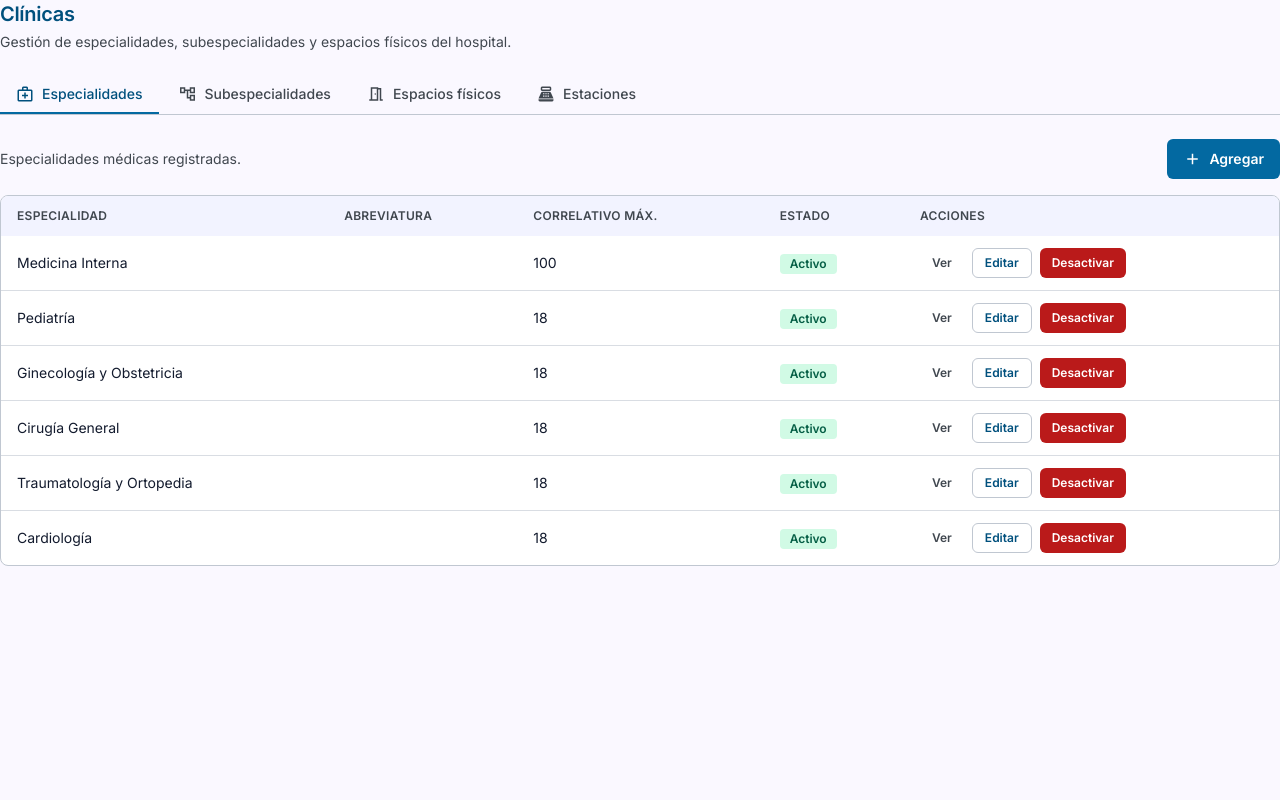
Scenario: ClinicasPage › crea una especialidad y la muestra en el listado
Click the button "Agregar" at (1224, 159), box [1167,139,1279,179]
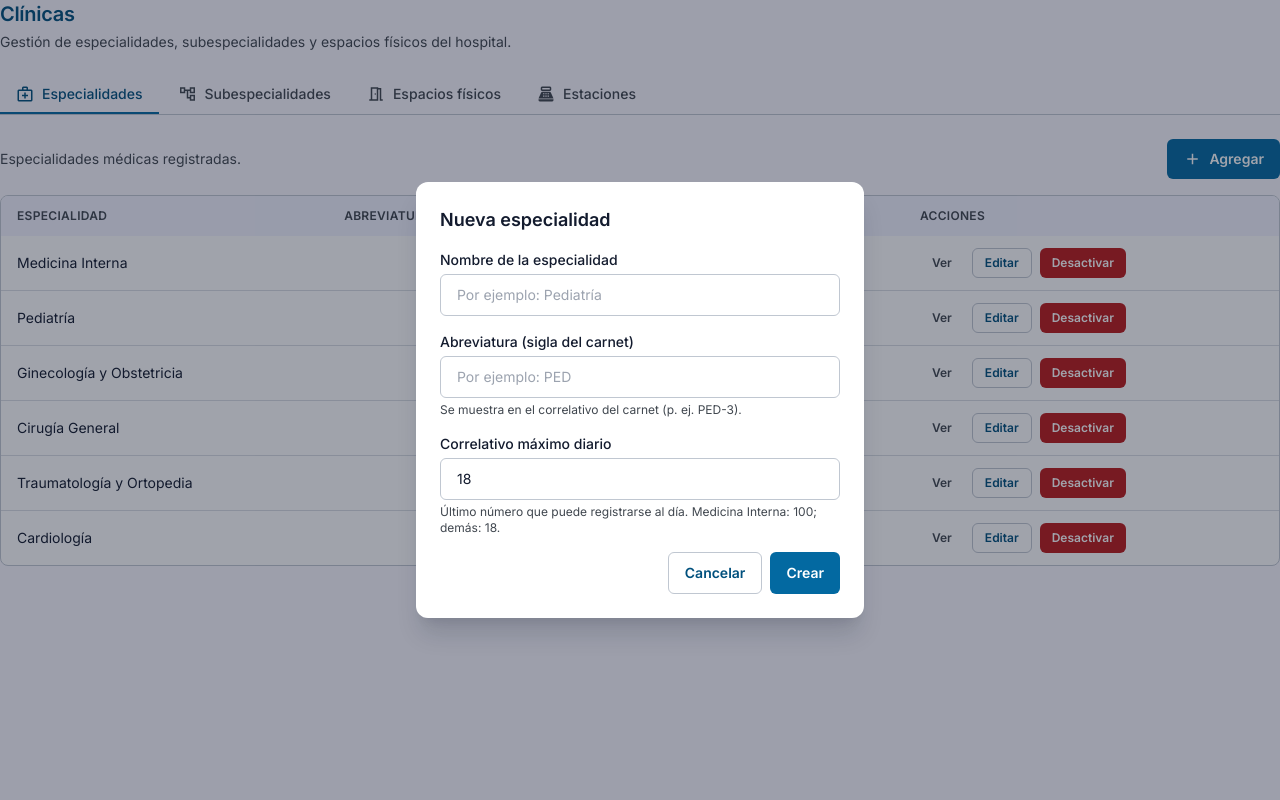
Type "Neurología" into the field labelled "Nombre de la especialidad" at (640, 295), box [440,274,840,316]
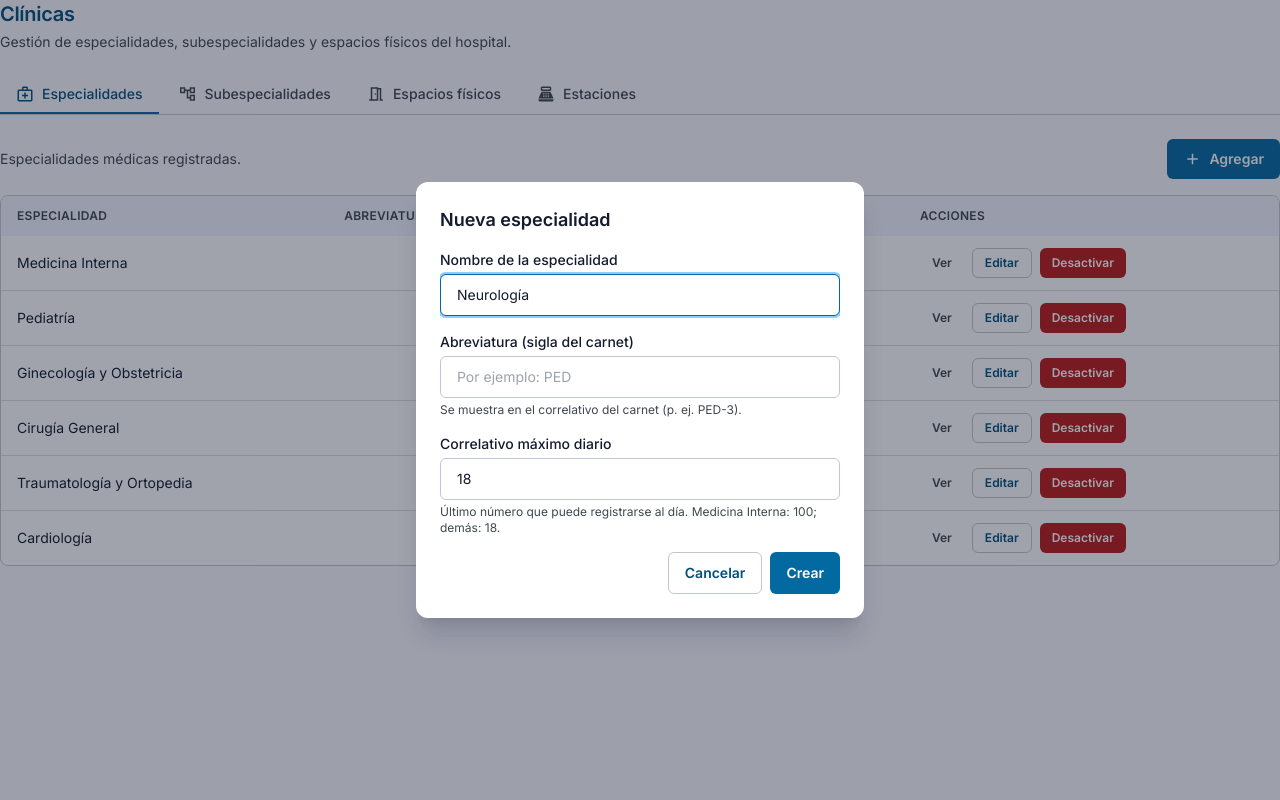
Click the button "Crear" at (805, 573), box [770,552,840,594]
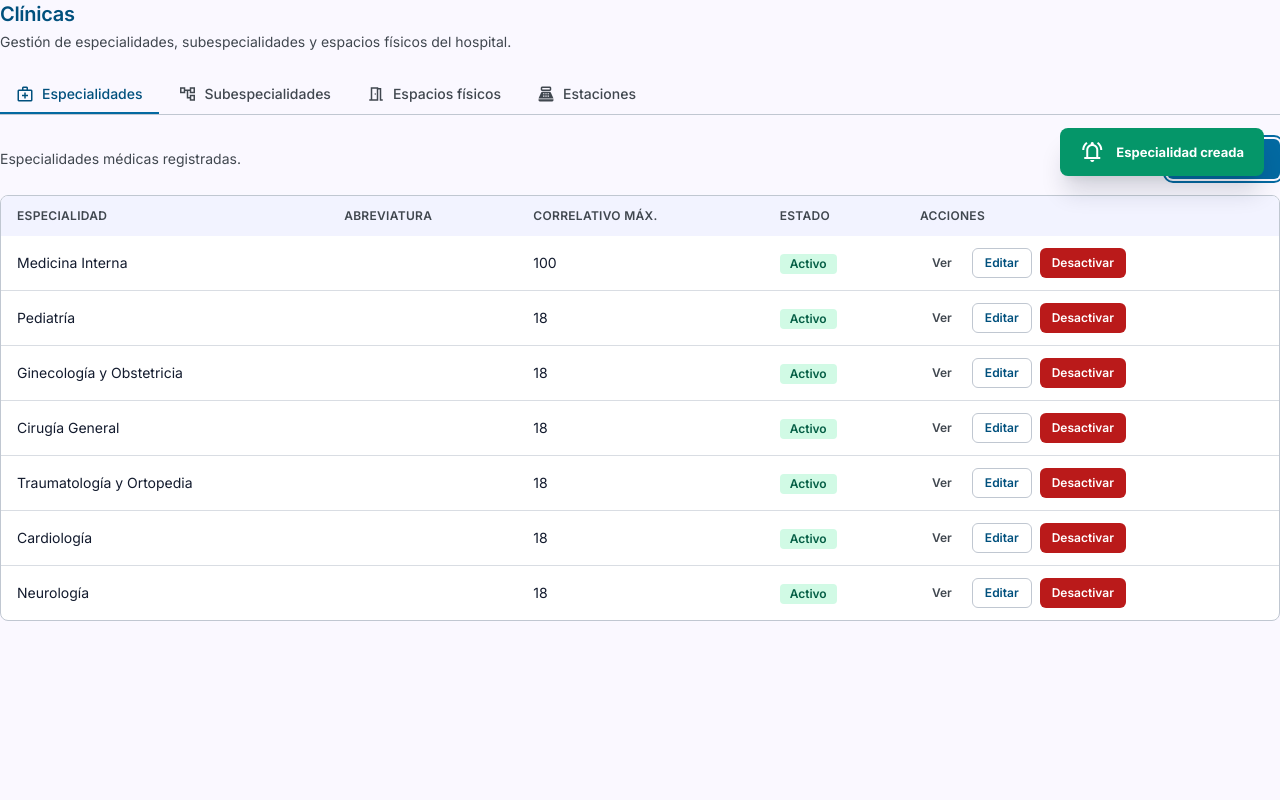
Expected: the text "Especialidad creada" is shown, [1116,143,1244,161]
Expected: the text "Neurología" is shown, [1,566,328,620]
